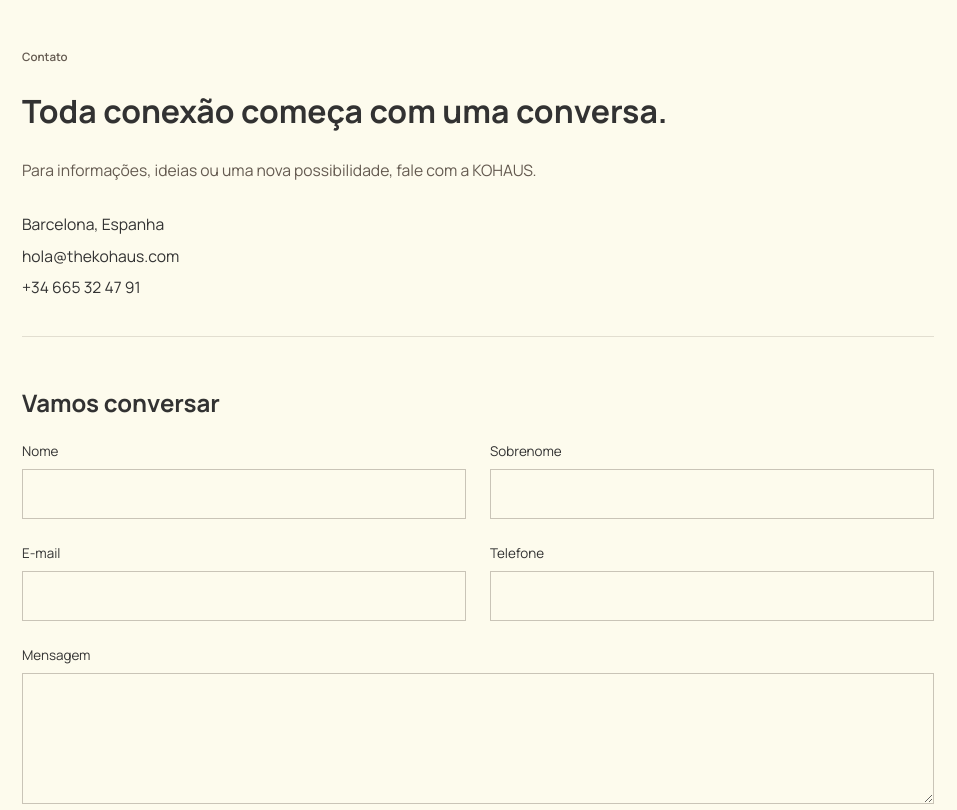
Scenario: general contact › stores a general enquiry with its language, without a property or newsletter subscription
In the field labelled "Nome": (244, 494) [22,469,466,519], type "Ana"
In the field labelled "Sobrenome": (712, 494) [490,469,934,519], type "Silva"
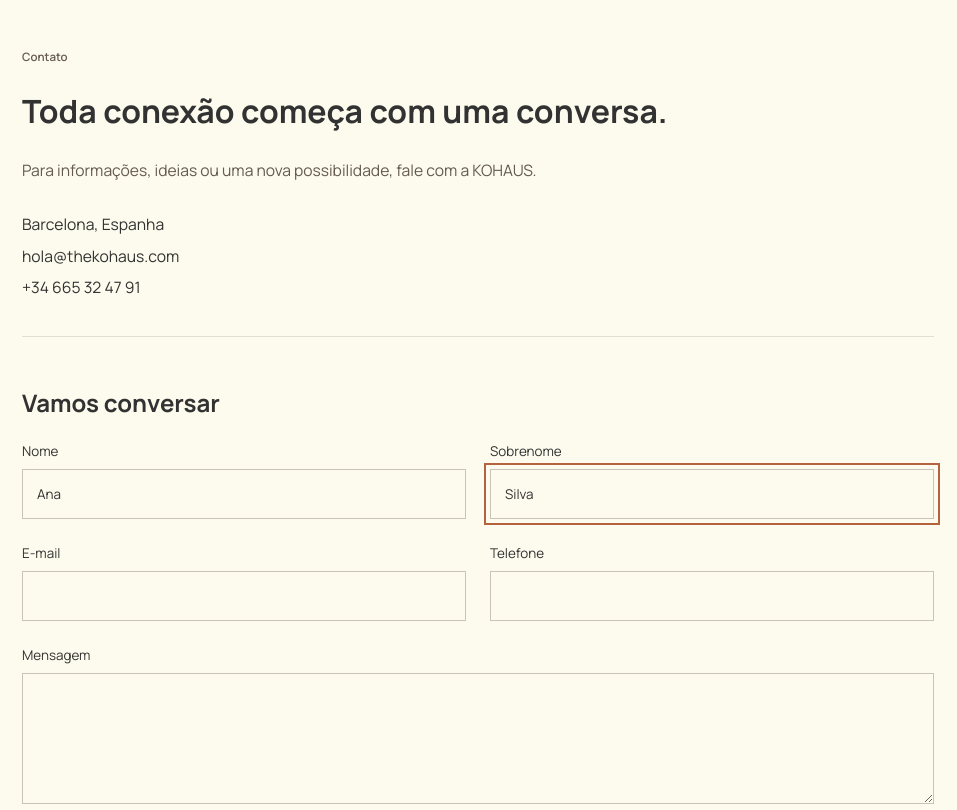
In the field labelled "E-mail": (244, 596) [22,571,466,621], type "ana@example.com"
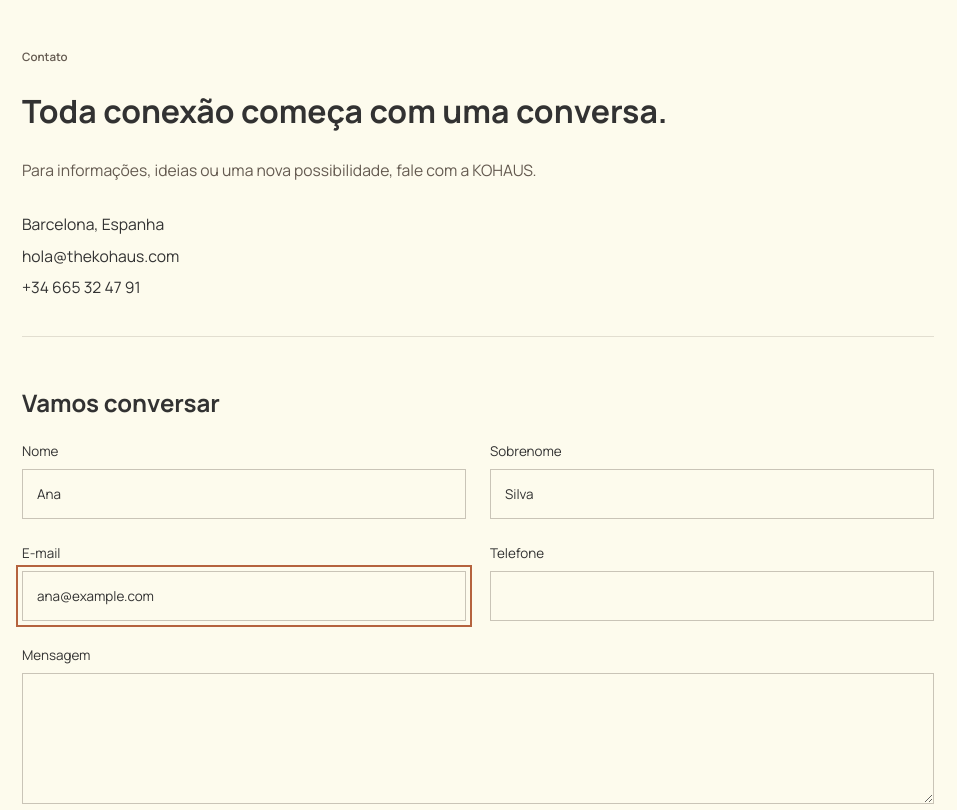
In the field labelled "Telefone": (712, 596) [490,571,934,621], type "123456789"
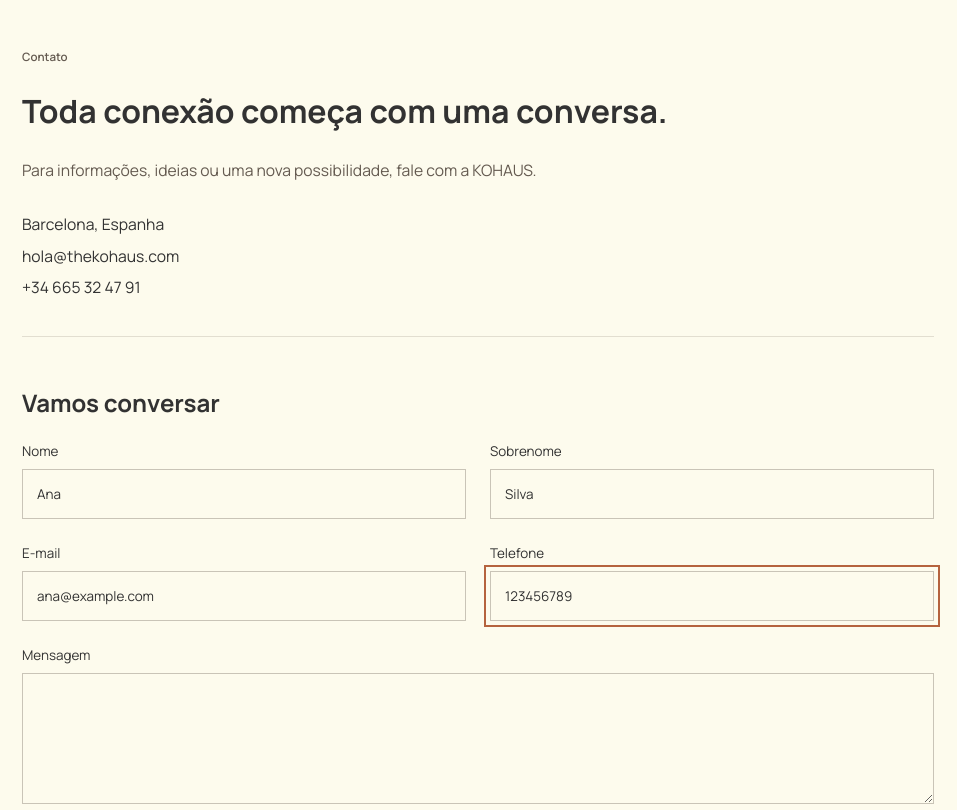
In the text box labelled "Mensagem": (478, 739) [22,673,934,804], type "Gostaria de conversar."
(page scrolled)
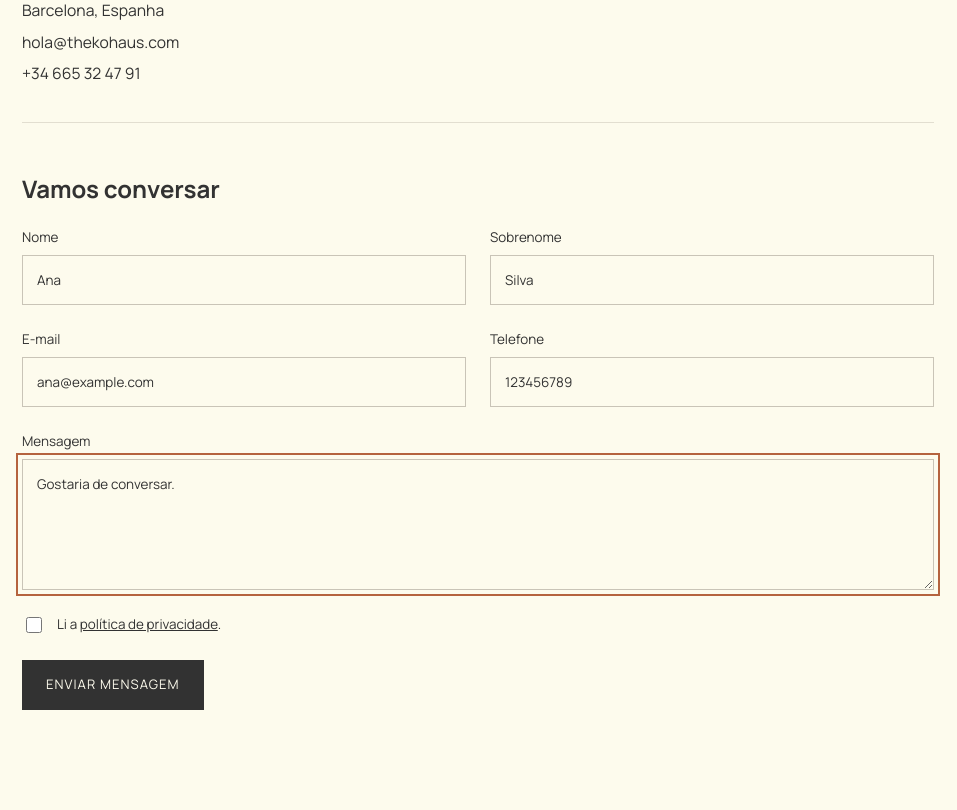
Click the checkbox: click(34, 625) [26,617,42,633]
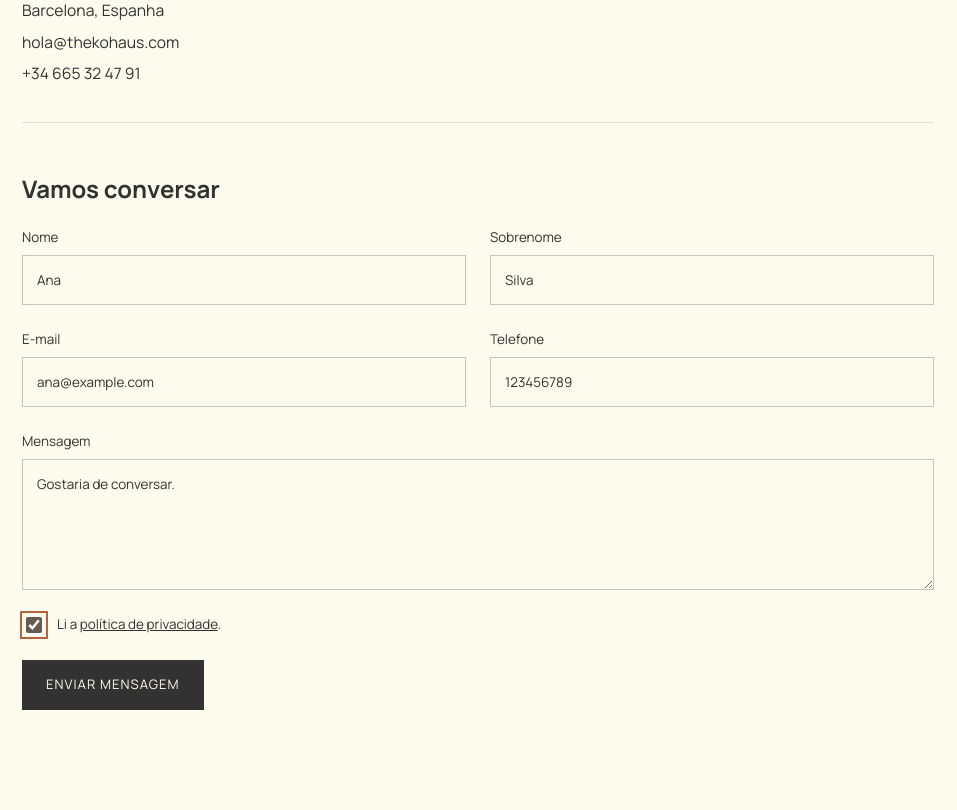
Click the button "Enviar mensagem": click(113, 685) [22,660,204,710]
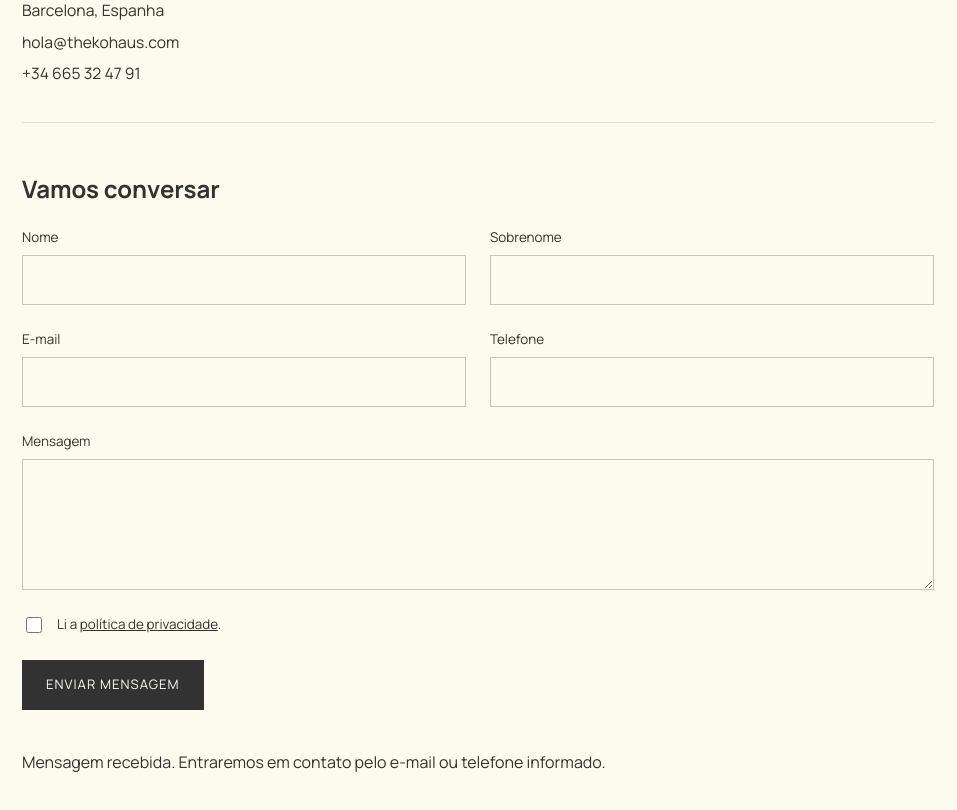
Expected: the message shows "Mensagem recebida", [22,751,606,773]
